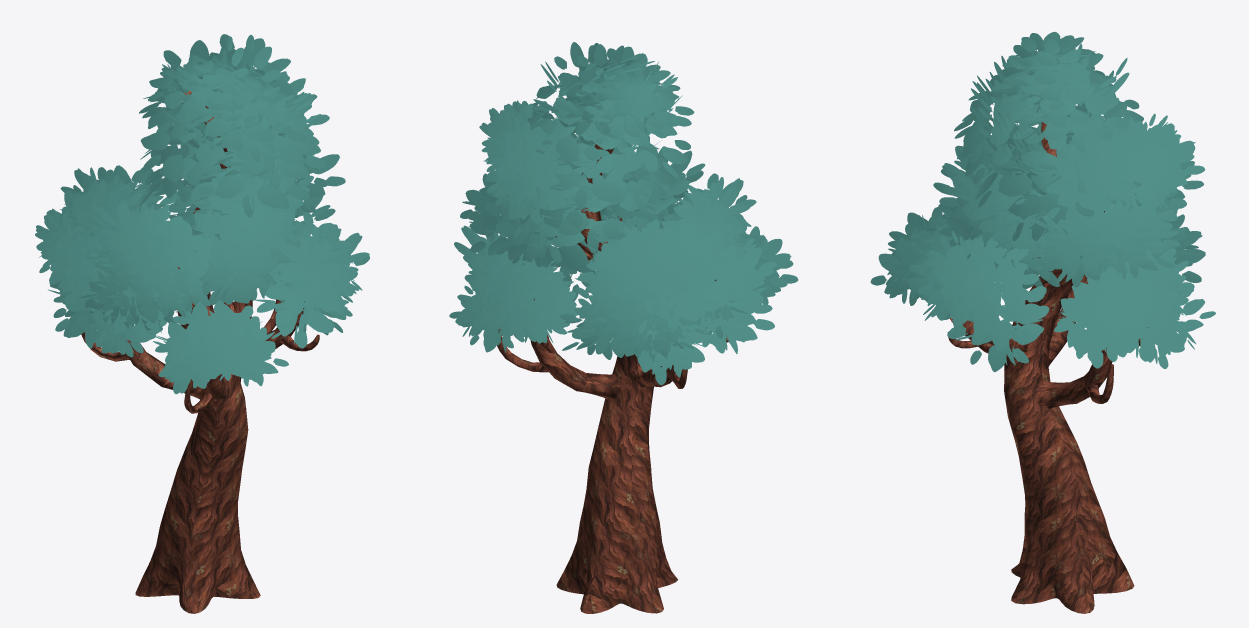
Rendered from gtree_common_2.glb.
3 views of the same model, side by side, from view 1: azimuth 30°, elevation 25°; view 2: azimuth 150°, elevation 25°; view 3: azimuth 270°, elevation 25° (orthographic). The views are drawn at different scales.
Visible parts, largest first — view 1: model; view 2: model; view 3: model.
Boxes of the visible parts, x1,y1,x2,y2 form: model: [35, 34, 369, 613]; model: [449, 42, 798, 613]; model: [870, 32, 1215, 613].
Size of the model in its own units: 4.32 by 6.63 by 4.14.
Materials: 2 (2 with a texture image).
